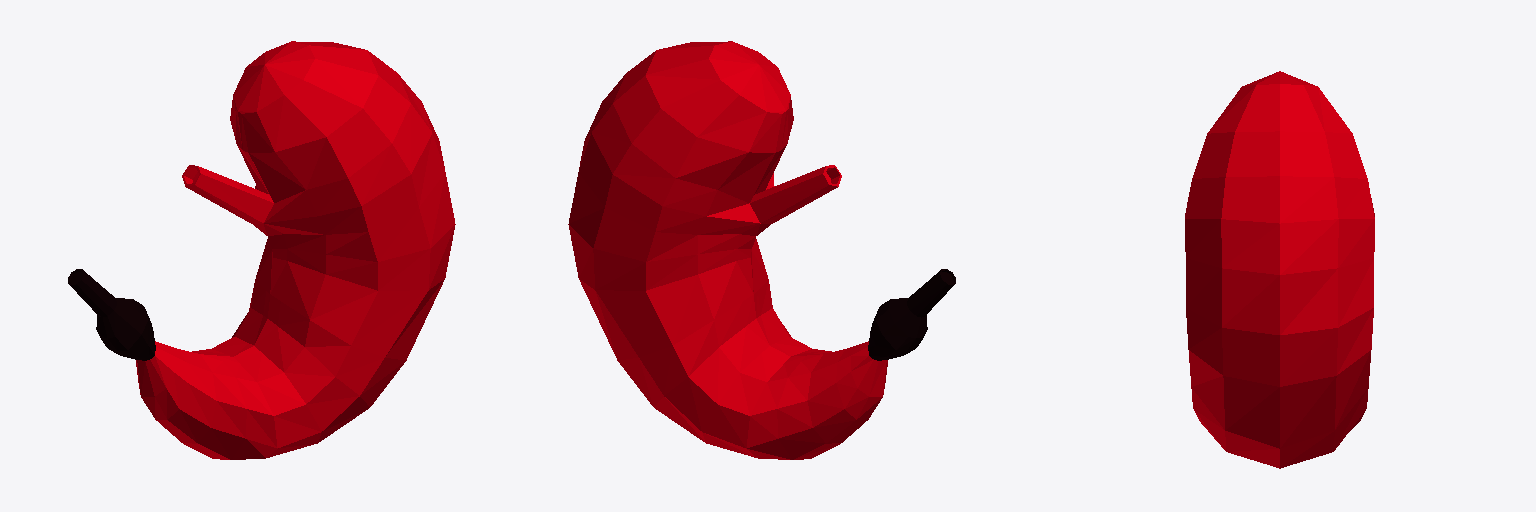
Rendered from Stomach.obj.
The picture shows the model from 3 angles: view 1: azimuth 30°, elevation 25°; view 2: azimuth 150°, elevation 25°; view 3: azimuth 270°, elevation 25°; orthographic projection.
Parts seen in each view (by area): view 1: pasted__pSphere1; view 2: pasted__pSphere1; view 3: pasted__pSphere1.
Boxes of the visible parts, x1=… form: pasted__pSphere1: x1=68, y1=41, x2=455, y2=459; pasted__pSphere1: x1=568, y1=41, x2=955, y2=459; pasted__pSphere1: x1=1185, y1=71, x2=1374, y2=468.
Size of the model in its own units: 15.29 by 15.45 by 6.71.